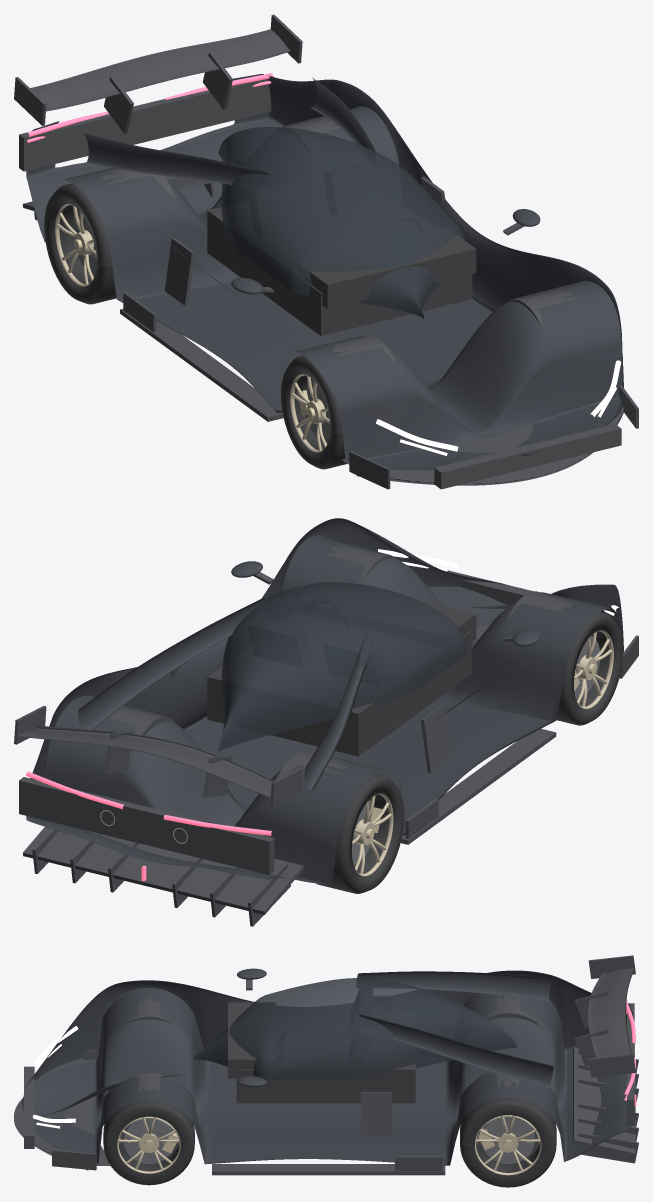
Rendered from asterion-apex.glb.
The picture shows the model from 3 angles, top to bottom: view 1: azimuth 30°, elevation 25°; view 2: azimuth 150°, elevation 25°; view 3: azimuth 270°, elevation 25°; orthographic projection. The views are drawn at different scales.
Visible parts, largest first — view 1: AsterionMonocoqueBody, CarbonAero, InteriorCockpit, CanopyGlass, TireRubber, AsterionAeroButtresses, ForgedAlloyWheels, HeadlightEmissive, TaillightCrimson, CarbonCeramicRotors; view 2: AsterionMonocoqueBody, CarbonAero, InteriorCockpit, CanopyGlass, TireRubber, AsterionAeroButtresses, ForgedAlloyWheels, TaillightCrimson, CarbonCeramicRotors; view 3: AsterionMonocoqueBody, CarbonAero, CanopyGlass, InteriorCockpit, TireRubber, AsterionAeroButtresses, ForgedAlloyWheels, CarbonCeramicRotors, HeadlightEmissive, ChampagneCalipers, TaillightCrimson.
Part boxes in pixels (x1,y1,x2,y2): AsterionMonocoqueBody: (26,74,623,469); CarbonAero: (14,14,638,489); InteriorCockpit: (207,162,476,335); CanopyGlass: (218,127,465,318); TireRubber: (44,183,622,469); AsterionAeroButtresses: (83,77,540,294); ForgedAlloyWheels: (55,204,329,452); HeadlightEmissive: (376,360,620,455); TaillightCrimson: (26,73,272,142); CarbonCeramicRotors: (72,210,329,442); AsterionMonocoqueBody: (26,518,623,883); CarbonAero: (14,545,638,926); InteriorCockpit: (207,578,476,756); CanopyGlass: (218,582,466,751); TireRubber: (316,612,622,893); AsterionAeroButtresses: (78,561,540,789); ForgedAlloyWheels: (100,630,613,876); TaillightCrimson: (26,771,271,881); CarbonCeramicRotors: (352,636,599,864); AsterionMonocoqueBody: (21,970,633,1165); CarbonAero: (14,955,638,1175); CanopyGlass: (193,978,516,1080); InteriorCockpit: (228,989,415,1103); TireRubber: (103,1097,556,1187); AsterionAeroButtresses: (237,968,553,1087); ForgedAlloyWheels: (117,1043,634,1175); CarbonCeramicRotors: (124,1116,534,1164); HeadlightEmissive: (32,1026,78,1128); ChampagneCalipers: (144,1127,513,1153); TaillightCrimson: (624,1001,636,1106).
Size of the model in its own units: 2.09 by 1.18 by 4.72.
